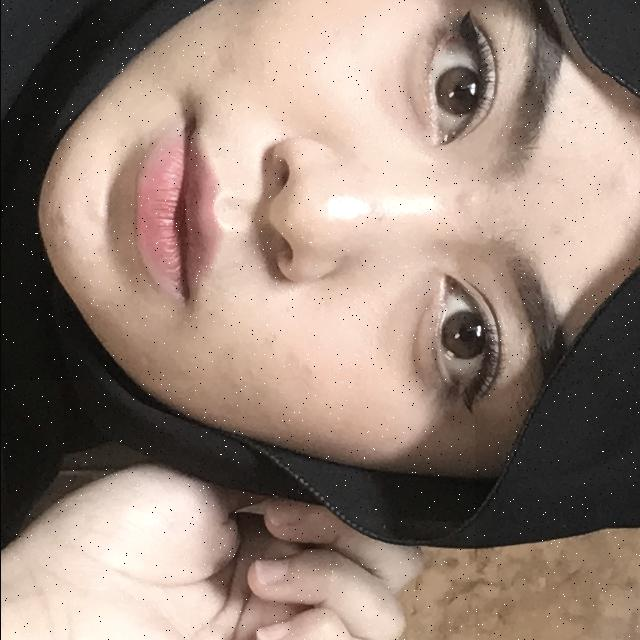ibu: (0, 380, 474, 640)
